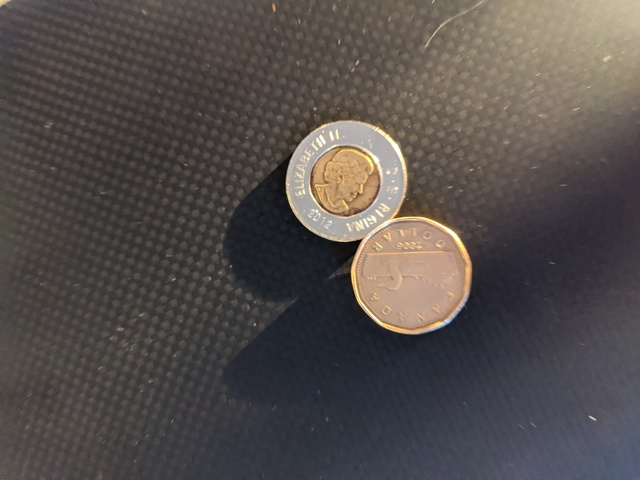loonie: (340, 208, 476, 336)
twonie: (276, 113, 411, 243)
